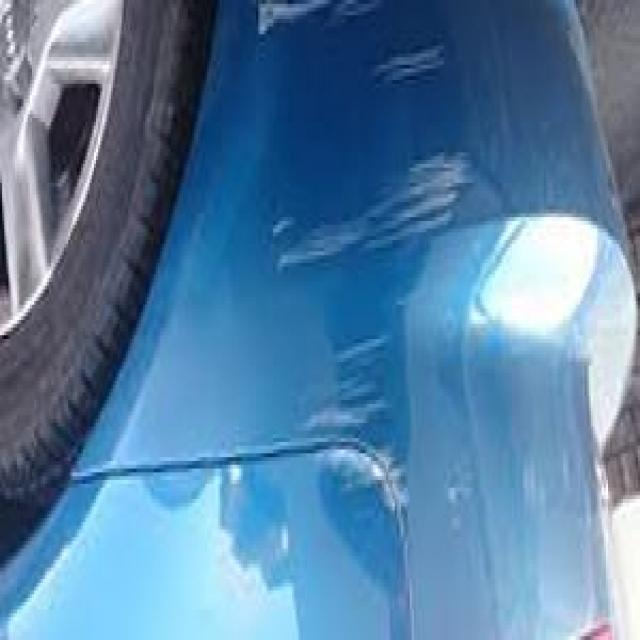scratch: (241, 8, 489, 544)
